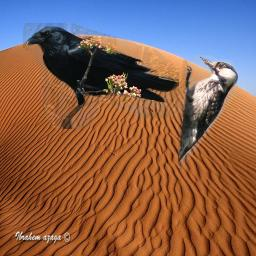Crow: (20, 23, 179, 129)
Woodpecker: (178, 55, 238, 168)
